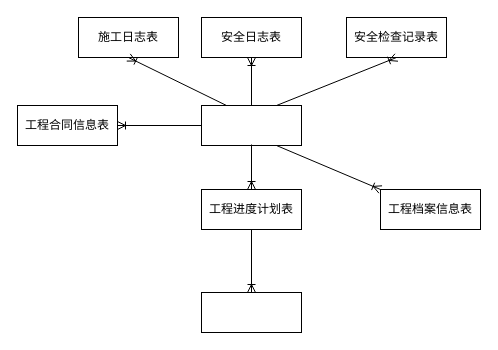
Some shapes in this 498 by 350 pixel diagram are drawn without their labels. Each missing label, with the centre of its shape:
"工程信息表" goes at (251,125).
"工程进度计划明细表" goes at (251,312).
